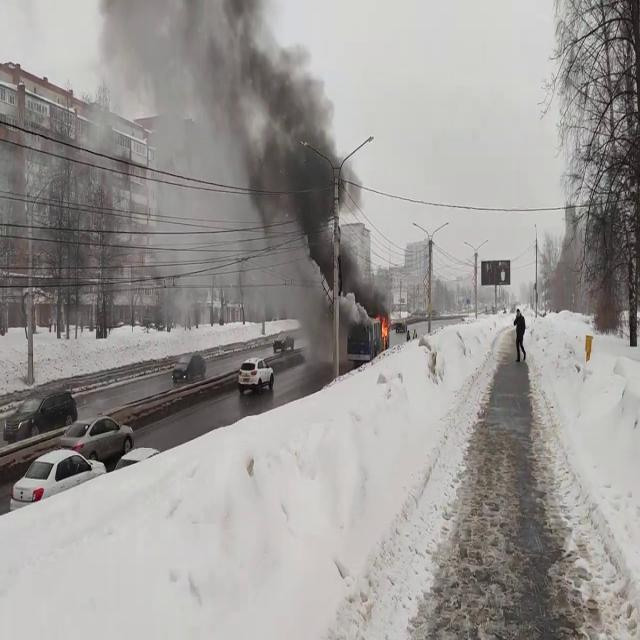Fire: (378, 309, 392, 349)
Smoke: (113, 1, 384, 347)
